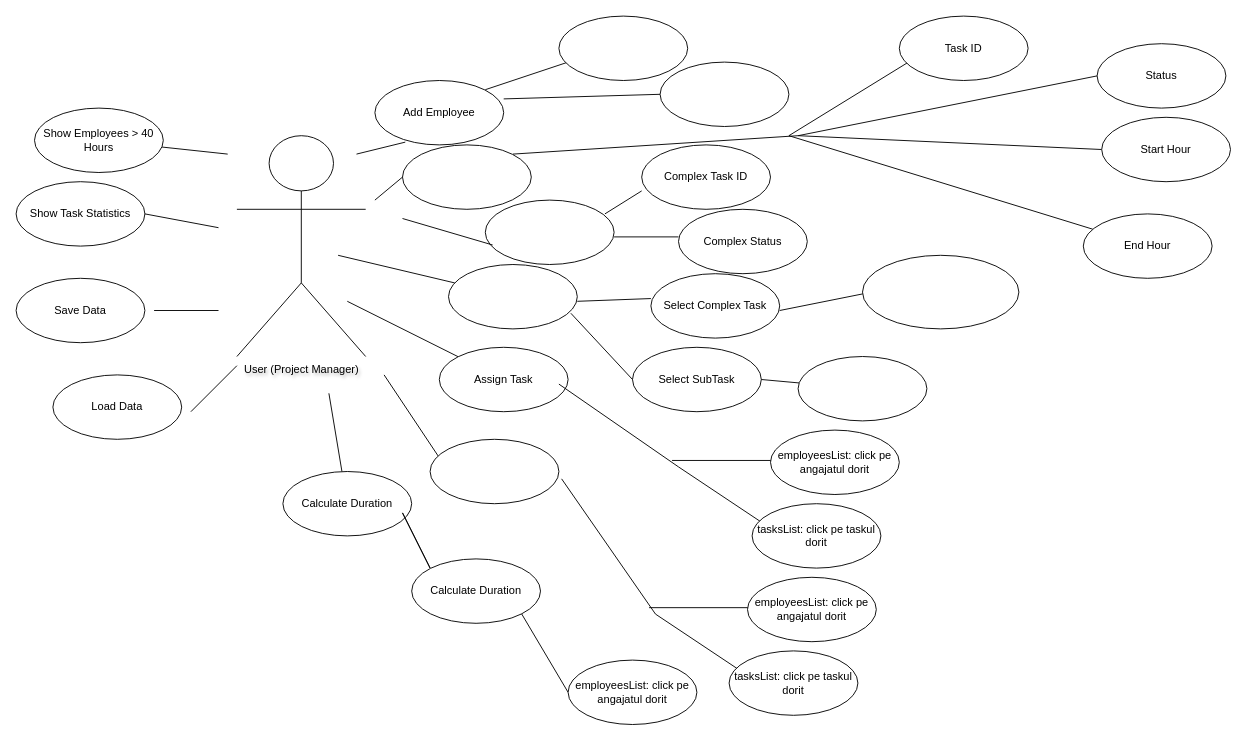
This 1247x741 diagram has some shape labels left out. The box of each missing label's shape, as (x1, y1, x2, y2) in pixels:
Add SubTask: (448, 264, 577, 329)
Create Complex Task: (484, 199, 614, 264)
Create Simple Task: (402, 144, 531, 209)
DropBox (alegem SubTask-ul dorit): (797, 356, 927, 421)
dropBox(Alegem Complex Task-ul dorit in care asignam un SubTask): (862, 254, 1019, 329)
Employee Id: (558, 15, 688, 80)
Employee Name: (659, 61, 789, 126)
Modify Status: (429, 438, 559, 504)
